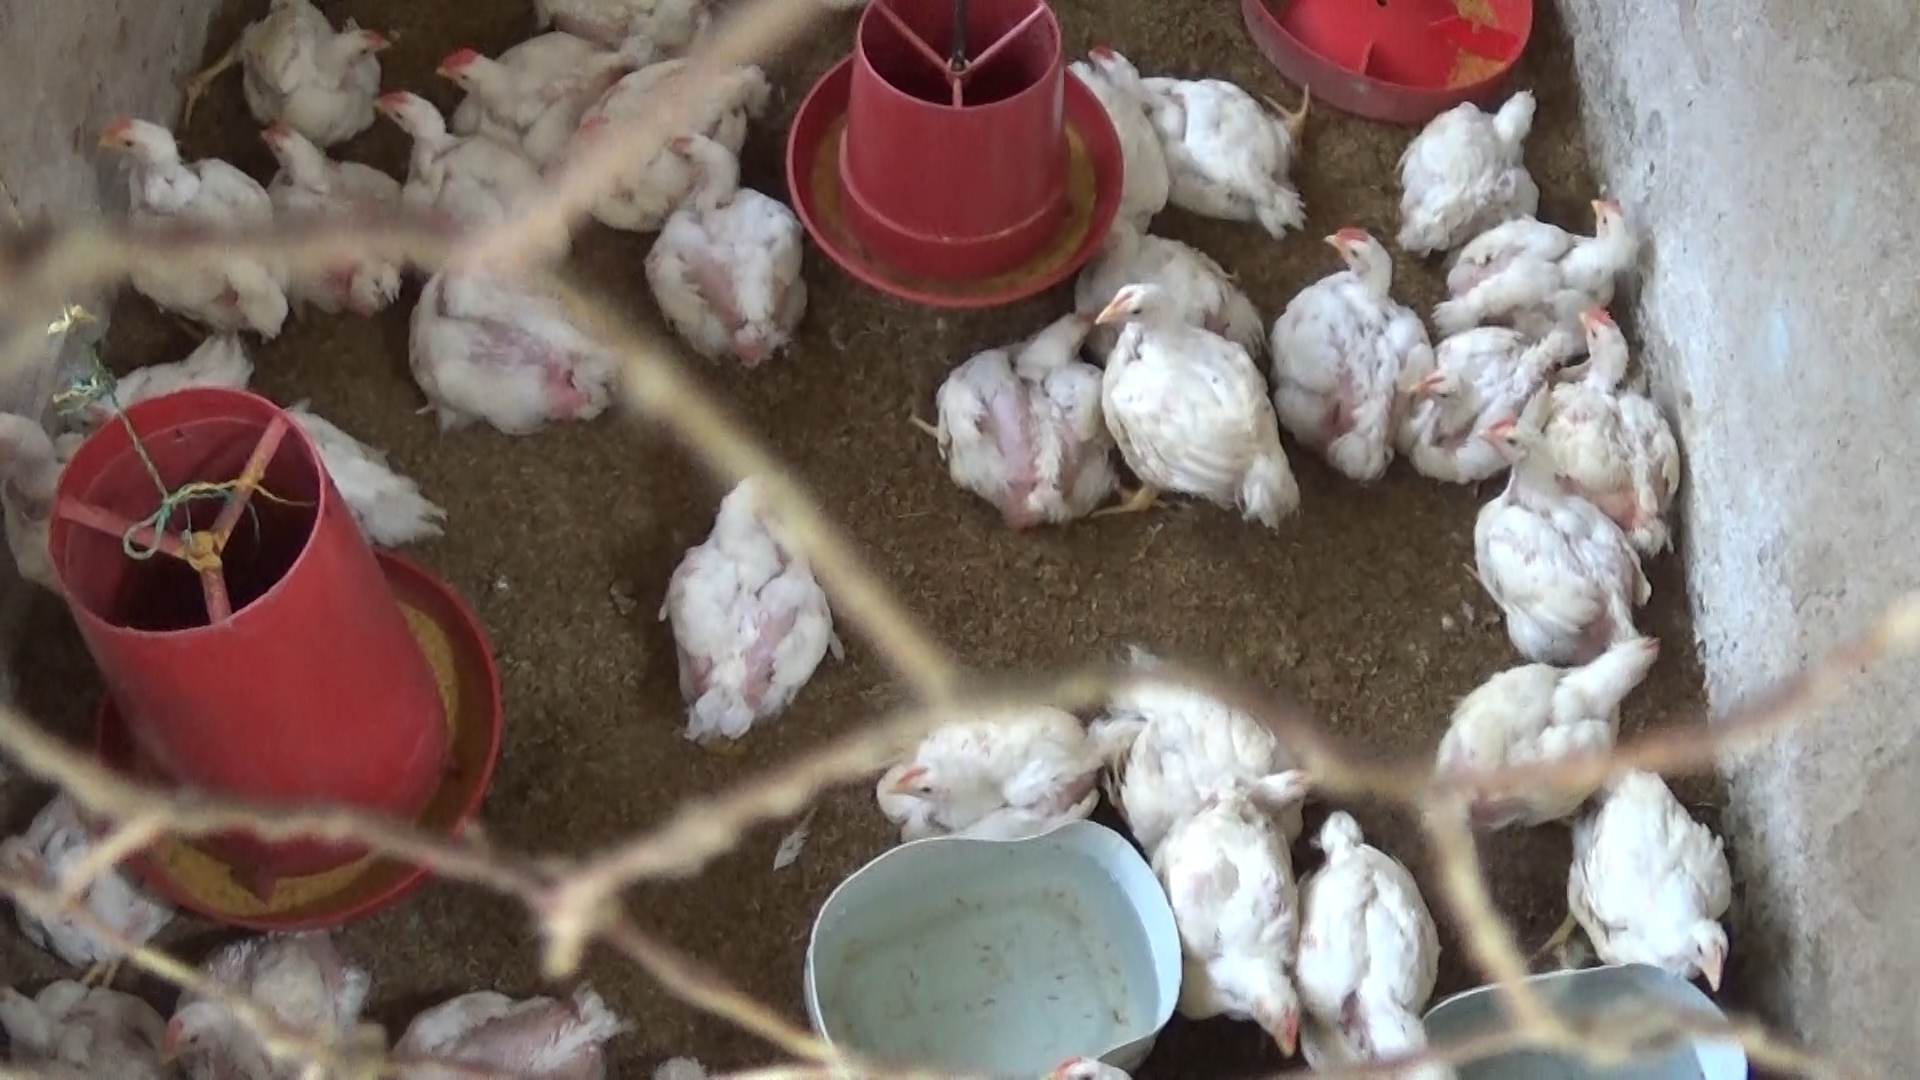Pollos: (653, 454, 847, 773), (1087, 273, 1313, 531), (1420, 612, 1680, 818), (1085, 17, 1335, 229), (906, 295, 1127, 531), (84, 94, 281, 353), (1458, 400, 1651, 658), (1151, 766, 1311, 1065), (1098, 644, 1332, 848), (637, 123, 820, 382), (1556, 760, 1755, 992), (407, 223, 621, 438), (1250, 214, 1411, 495), (1296, 814, 1461, 1073), (1396, 289, 1571, 531), (231, 108, 431, 302), (884, 692, 1112, 839), (1382, 62, 1575, 233), (1549, 295, 1696, 517), (138, 938, 360, 1080), (1433, 175, 1635, 328), (164, 0, 394, 132), (349, 84, 542, 237), (433, 15, 621, 153), (378, 984, 625, 1080)
